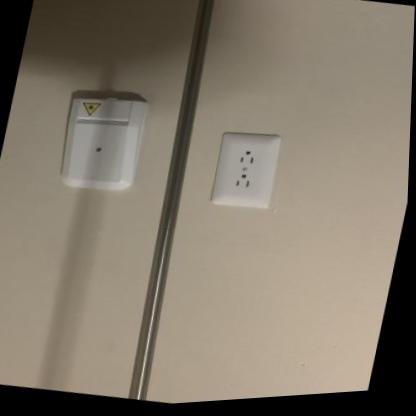OUTLET: (208, 127, 284, 214)
